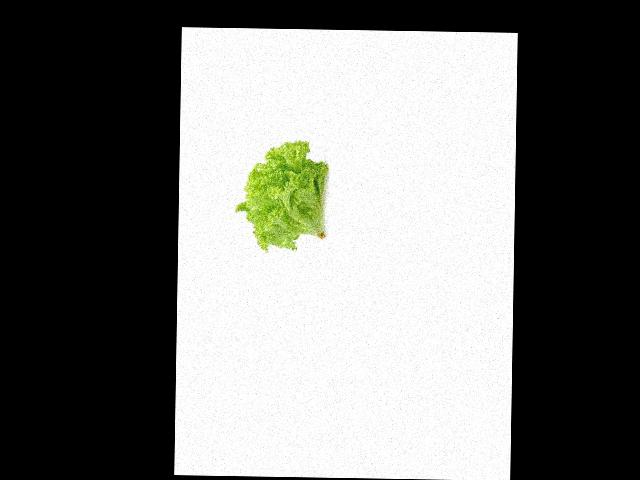lettuce: (239, 146, 341, 251)
